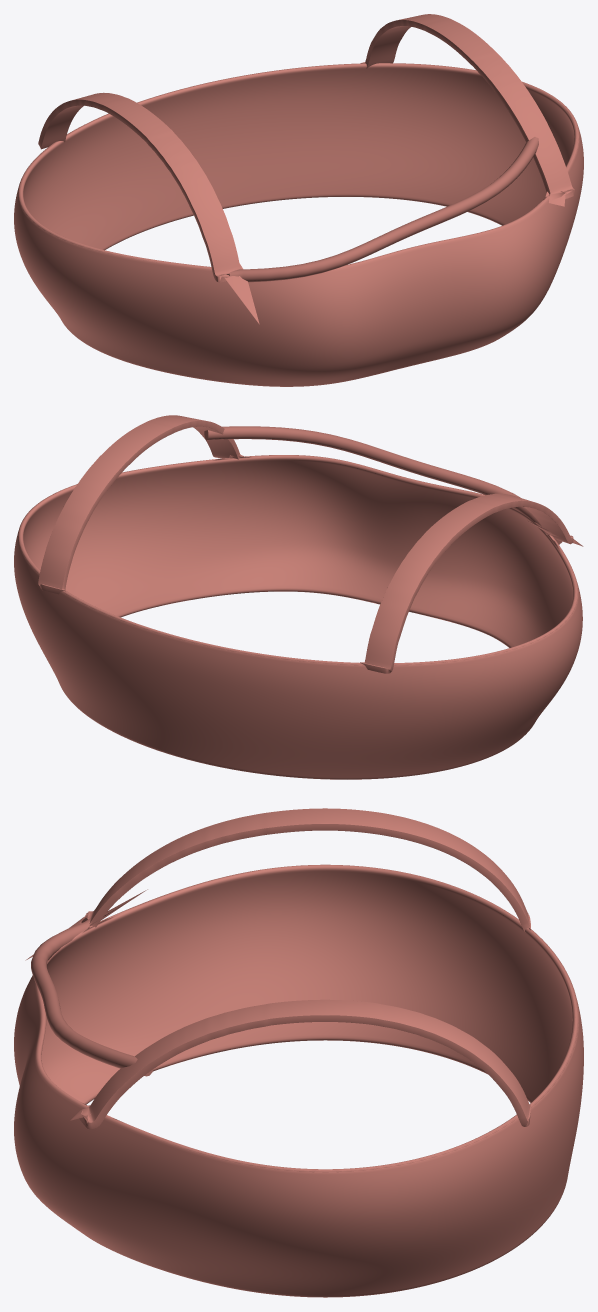
File: Feminine-strappy-top.glb
The picture shows the model from 3 angles, top to bottom: view 1: azimuth 30°, elevation 25°; view 2: azimuth 150°, elevation 25°; view 3: azimuth 270°, elevation 25°; orthographic projection. The views are drawn at different scales.
Parts seen in each view (by area): view 1: Clothing / strappy body, Clothing / strappy seated strap -1, Clothing / strappy seated strap 1, Crop / continuous diagonal strap export; view 2: Clothing / strappy body, Clothing / strappy seated strap -1, Clothing / strappy seated strap 1, Crop / continuous diagonal strap export, strappy body stitched edge.001 export; view 3: Clothing / strappy body, Clothing / strappy seated strap 1, Clothing / strappy seated strap -1, Crop / continuous diagonal strap export, strappy body stitched edge.001 export.
Boxes of the visible parts, x1,y1,x2,y2 form: Clothing / strappy body: (14, 63, 583, 386); Clothing / strappy seated strap -1: (38, 92, 259, 324); Clothing / strappy seated strap 1: (360, 14, 574, 206); Crop / continuous diagonal strap export: (229, 137, 538, 282); Clothing / strappy body: (14, 455, 582, 779); Clothing / strappy seated strap -1: (360, 493, 583, 673); Clothing / strappy seated strap 1: (38, 415, 245, 594); Crop / continuous diagonal strap export: (204, 426, 562, 544); strappy body stitched edge.001 export: (18, 495, 577, 665); Clothing / strappy body: (14, 864, 583, 1297); Clothing / strappy seated strap 1: (70, 999, 530, 1129); Clothing / strappy seated strap -1: (25, 808, 530, 960); Crop / continuous diagonal strap export: (31, 918, 152, 1076); strappy body stitched edge.001 export: (163, 895, 578, 1172).
Size of the model in its own units: 0.6883 by 0.2655 by 0.5323.
